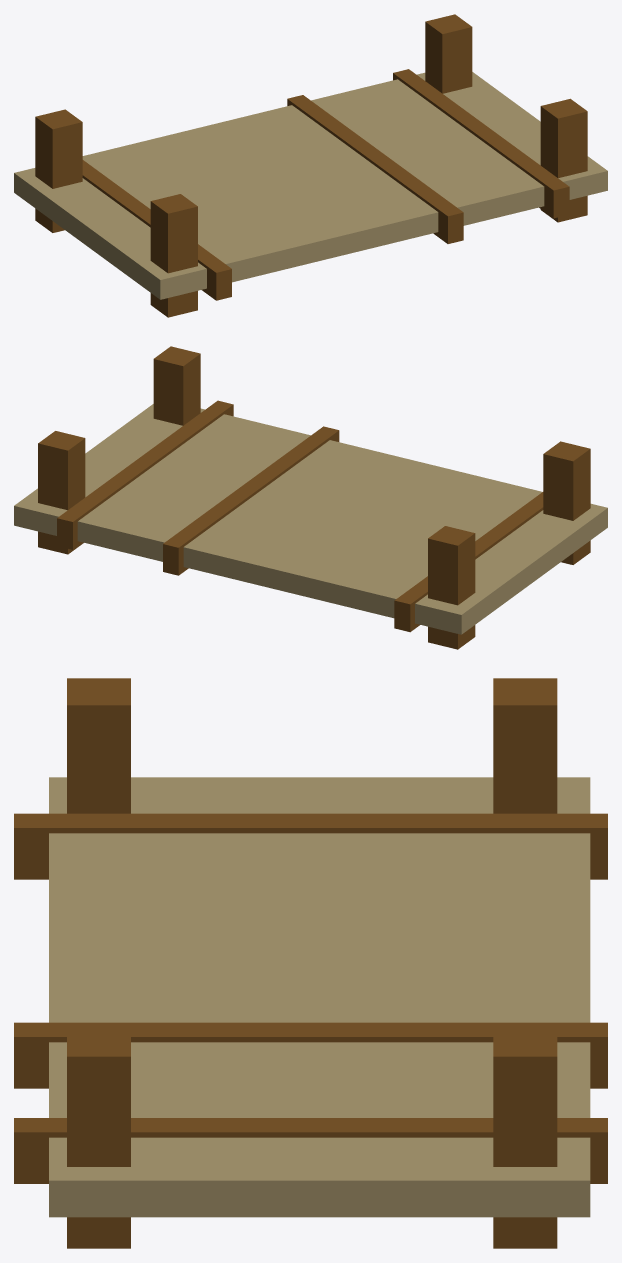
The model's file is dock.fbx.
3 views of the same model, one above another, from view 1: azimuth 30°, elevation 25°; view 2: azimuth 150°, elevation 25°; view 3: azimuth 270°, elevation 25° (orthographic). The views are drawn at different scales.
Visible parts, largest first — view 1: fishing_rod8; view 2: fishing_rod8; view 3: fishing_rod8.
Boxes of the visible parts, box(x1,y1,x2,y2) form: fishing_rod8: box(14, 14, 607, 317); fishing_rod8: box(14, 346, 607, 649); fishing_rod8: box(14, 678, 607, 1248).
Bounding box in the file's own units: 1691 × 375 × 1052.
